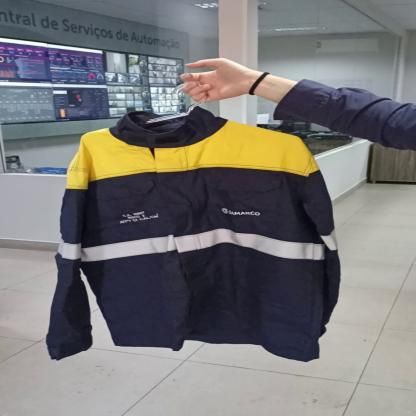C_eletrica: (40, 113, 345, 363)
